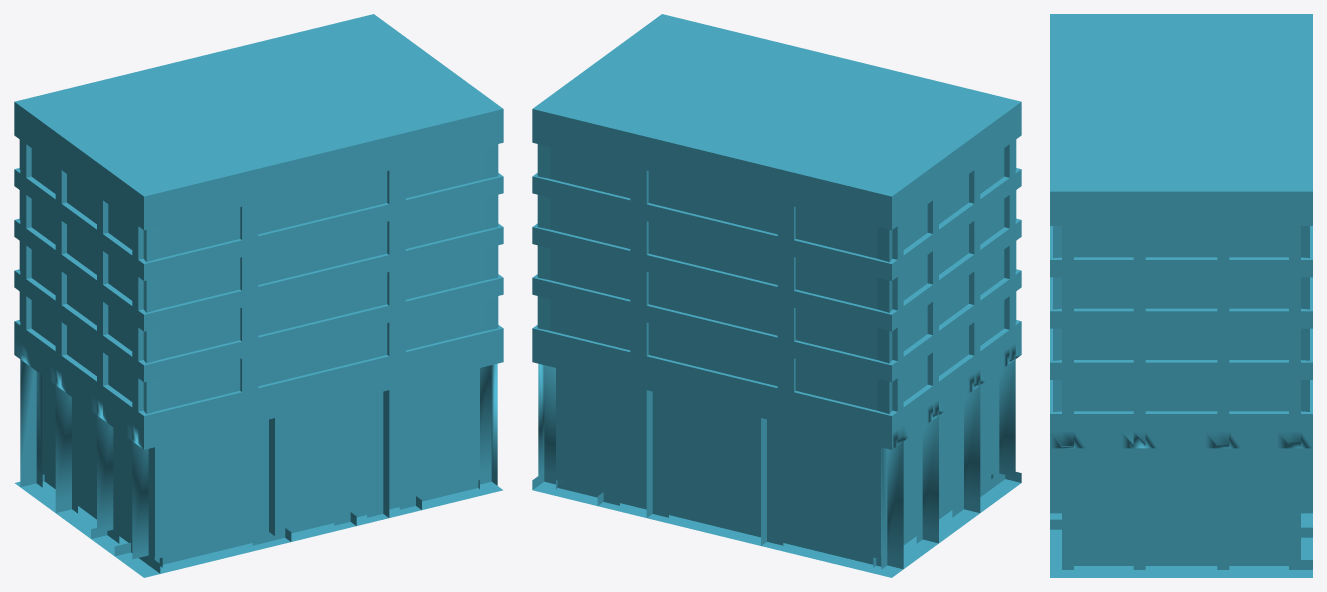
3 views of the same model, side by side, from view 1: azimuth 30°, elevation 25°; view 2: azimuth 150°, elevation 25°; view 3: azimuth 270°, elevation 25° (orthographic).
Parts seen in each view (by area): view 1: Shape_IndexedFaceSet_Shape_IndexedFaceSet.002; view 2: Shape_IndexedFaceSet_Shape_IndexedFaceSet.002; view 3: Shape_IndexedFaceSet_Shape_IndexedFaceSet.002.
Part boxes in pixels (box(x1,y1,x2,y2)): Shape_IndexedFaceSet_Shape_IndexedFaceSet.002: box(14, 14, 503, 577); Shape_IndexedFaceSet_Shape_IndexedFaceSet.002: box(532, 14, 1021, 577); Shape_IndexedFaceSet_Shape_IndexedFaceSet.002: box(1050, 14, 1312, 577).
Size of the model in its own units: 5.94 by 6.03 by 3.72.
